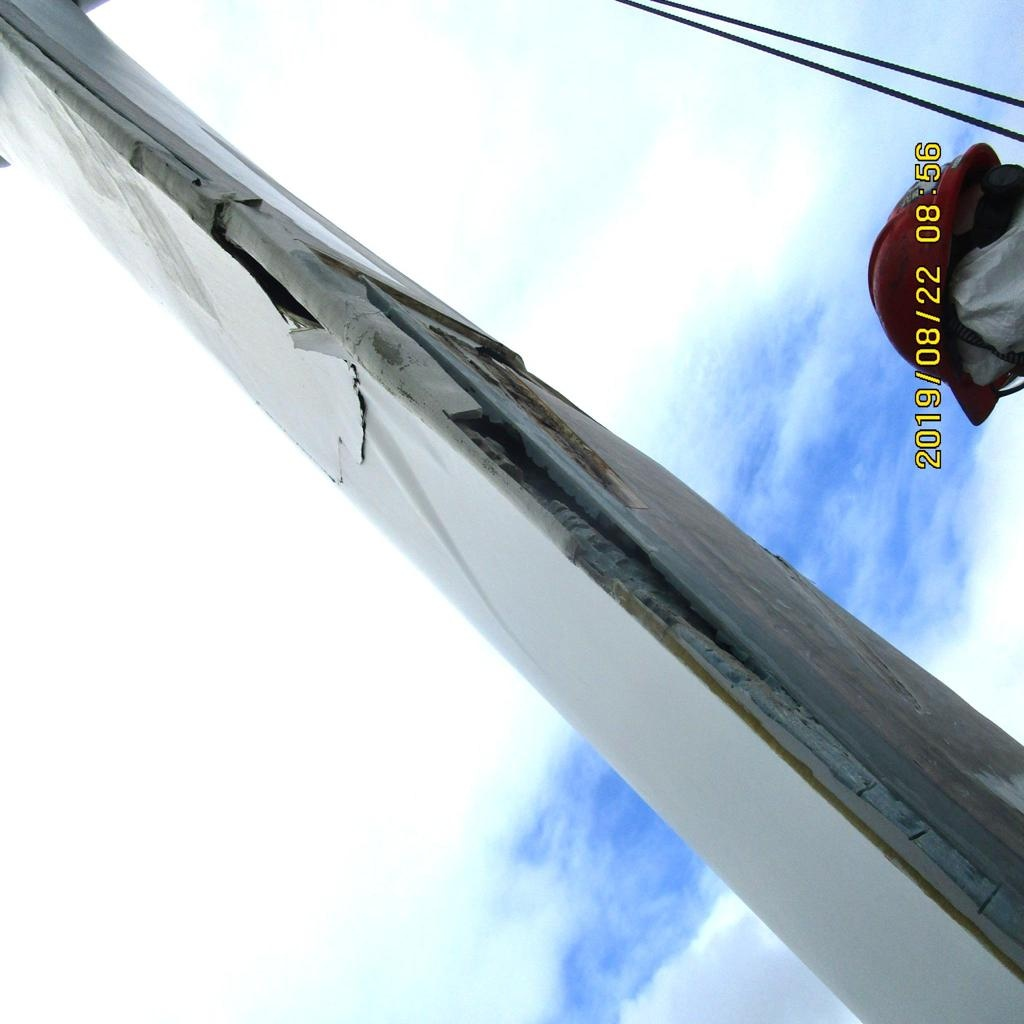craze: (172, 181, 694, 606)
